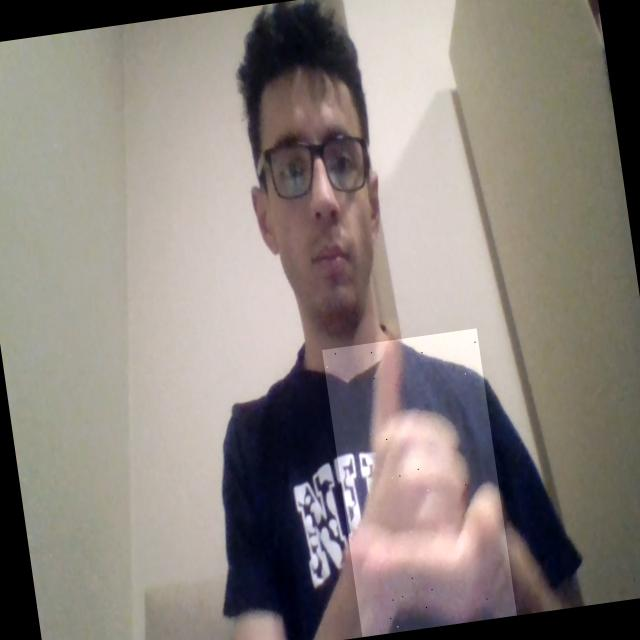help: (322, 328, 518, 637)
